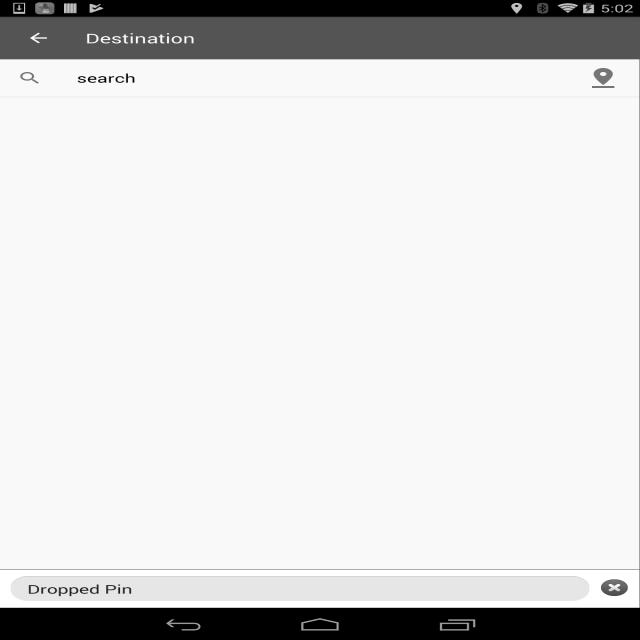EditText: (11, 576, 589, 601), (77, 70, 533, 86)
ImageButton: (9, 17, 68, 59), (575, 66, 631, 90), (590, 576, 640, 599)
ImageView: (17, 70, 43, 86)
TextView: (86, 29, 196, 47)
